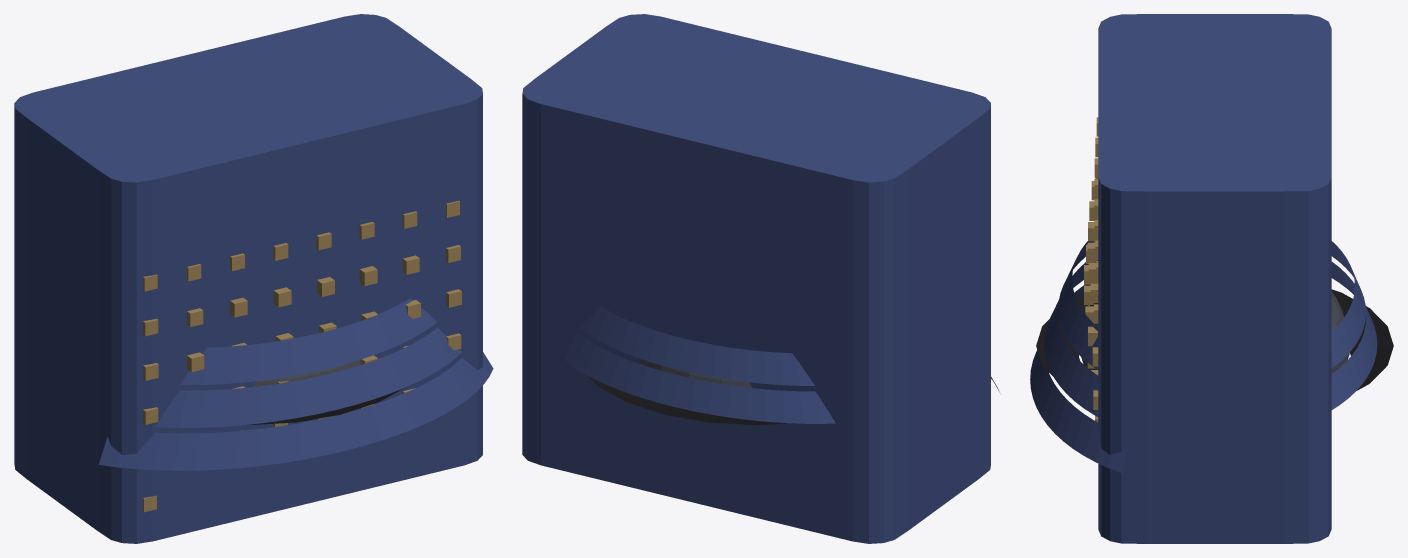
The model's file is ming_roblox_baked.obj.
3 renders of one model, left to right at view 1: azimuth 30°, elevation 25°; view 2: azimuth 150°, elevation 25°; view 3: azimuth 270°, elevation 25°, orthographic. The views are drawn at different scales.
Parts seen in each view (by area): view 1: under_torso, fauld_front_2, fauld_front_1, fauld_front_0, brigandine_rivets, ming_brim, ming_skull; view 2: under_torso, fauld_back_1, fauld_back_0, ming_brim, ming_skull; view 3: under_torso, fauld_front_2, fauld_front_1, brigandine_rivets, fauld_back_1, fauld_front_0, ming_brim, fauld_back_0, ming_skull.
Part boxes in pixels (x1,y1,x2,y2): under_torso: [14, 14, 482, 543]; fauld_front_2: [99, 352, 493, 470]; fauld_front_1: [155, 327, 461, 427]; fauld_front_0: [180, 298, 436, 384]; brigandine_rivets: [143, 200, 461, 512]; ming_brim: [247, 388, 403, 425]; ming_skull: [253, 360, 360, 386]; under_torso: [522, 14, 990, 543]; fauld_back_1: [558, 334, 835, 423]; fauld_back_0: [578, 307, 814, 385]; ming_brim: [588, 376, 786, 425]; ming_skull: [639, 359, 752, 387]; under_torso: [1098, 14, 1331, 543]; fauld_front_2: [1030, 284, 1127, 473]; fauld_front_1: [1044, 260, 1098, 416]; brigandine_rivets: [1084, 117, 1098, 422]; fauld_back_1: [1331, 262, 1377, 409]; fauld_front_0: [1058, 241, 1098, 369]; ming_brim: [1036, 289, 1393, 390]; fauld_back_0: [1331, 241, 1365, 368]; ming_skull: [1081, 291, 1349, 373].
Size of the model in its own units: 2.29 by 2.12 by 1.87.
